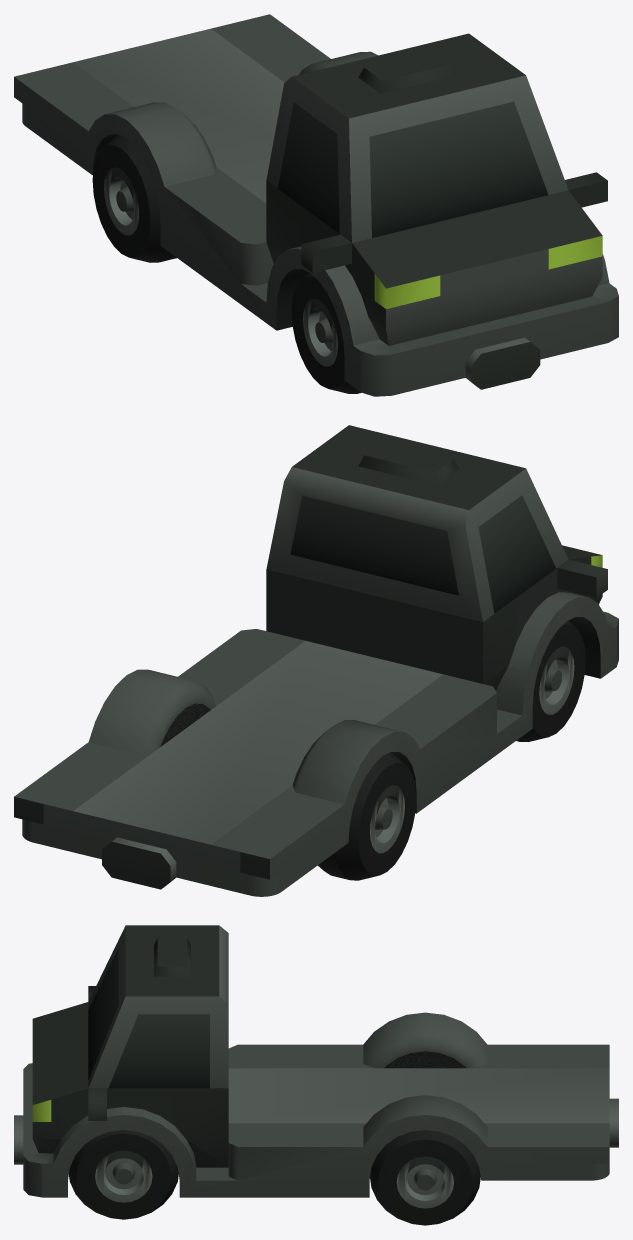
Rendered from delivery-flat.glb.
3 views of the same model, one above another, from view 1: azimuth 30°, elevation 25°; view 2: azimuth 150°, elevation 25°; view 3: azimuth 270°, elevation 25° (orthographic). The views are drawn at different scales.
Visible parts, largest first — view 1: body, wheel-back-right, wheel-front-right; view 2: body, wheel-back-right, wheel-front-right; view 3: body, wheel-back-left, wheel-front-left.
Boxes of the visible parts, <box> form: body: <box>14,14,618,396</box>; wheel-back-right: <box>92,134,176,262</box>; wheel-front-right: <box>291,272,361,393</box>; body: <box>14,425,618,896</box>; wheel-back-right: <box>318,752,416,880</box>; wheel-front-right: <box>516,621,585,741</box>; body: <box>14,925,618,1197</box>; wheel-back-left: <box>370,1130,480,1225</box>; wheel-front-left: <box>69,1130,178,1219</box>.
Size of the model in its own units: 1.5 by 1.35 by 3.25.
